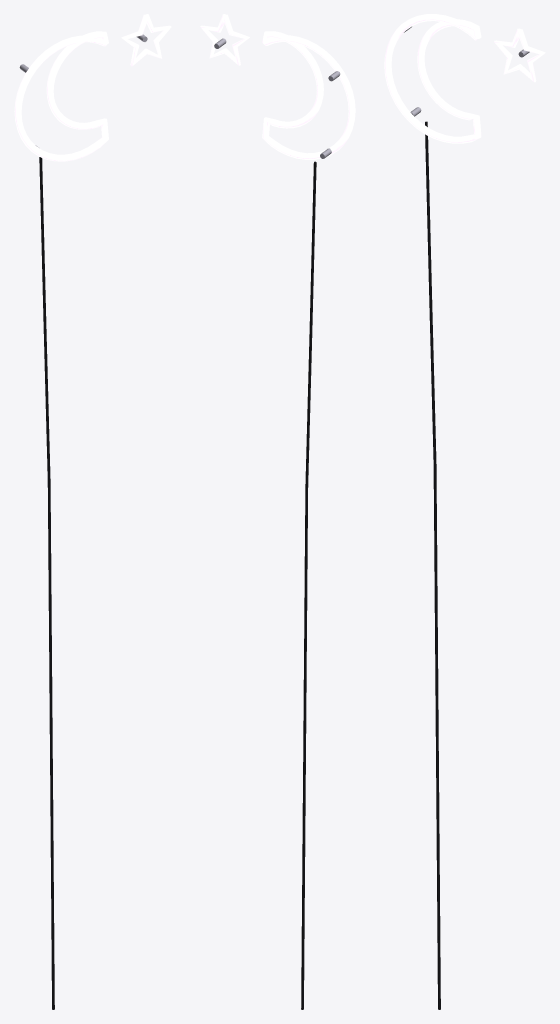
The model's file is neon_sign.fbx.
3 renders of one model, left to right at view 1: azimuth 30°, elevation 25°; view 2: azimuth 150°, elevation 25°; view 3: azimuth 330°, elevation 25°, orthographic. The views are drawn at different scales.
Visible parts, largest first — view 1: neon_sign; view 2: neon_sign; view 3: neon_sign.
Part boxes in pixels (<box>): neon_sign: <box>14,14,171,1009</box>; neon_sign: <box>200,14,355,1009</box>; neon_sign: <box>384,14,545,1009</box>.
Bounding box in the file's own units: 0.3655 × 2.19 × 0.0425.
